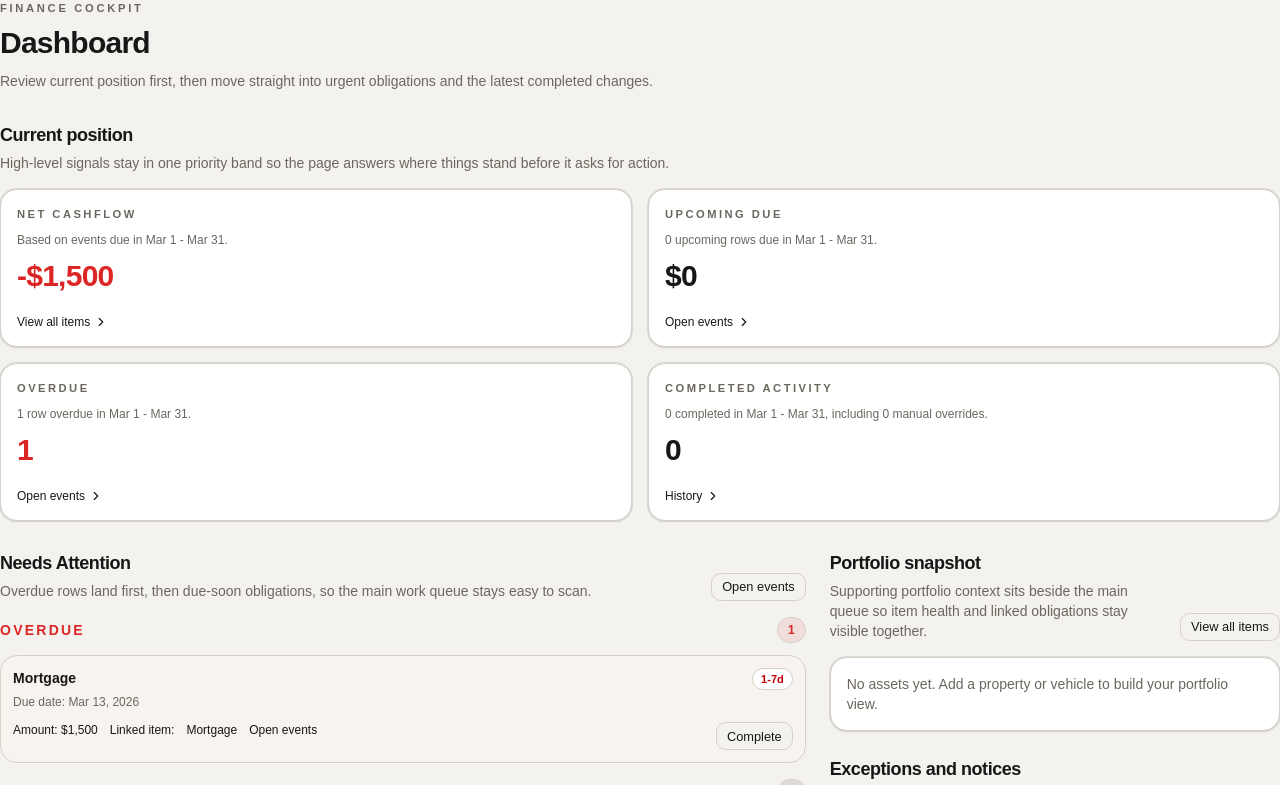
it: dashboard action queue › lets users complete dashboard queue events inline without leaving the dashboard
Click the button "Complete".
click(754, 736)  # box [716,722,793,750]
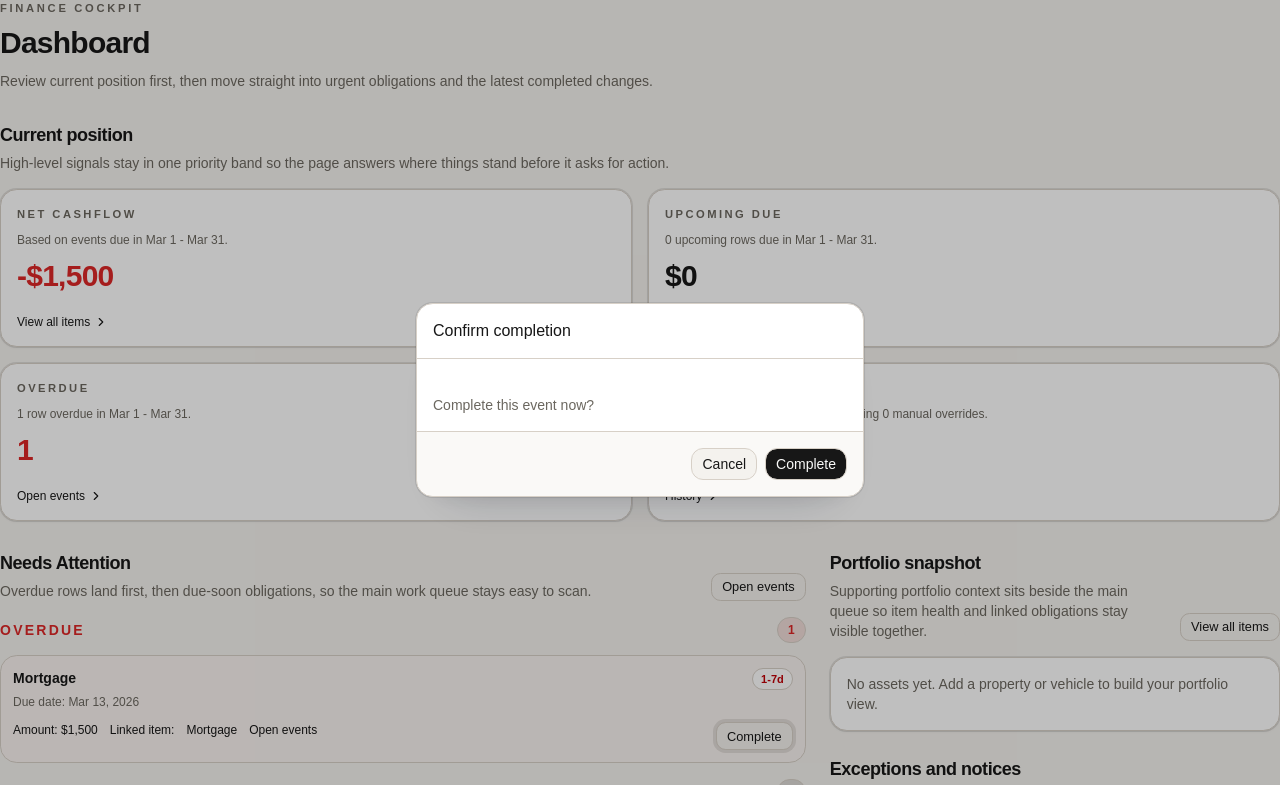
Click the button "Complete".
click(806, 464)  # box [765,448,847,480]
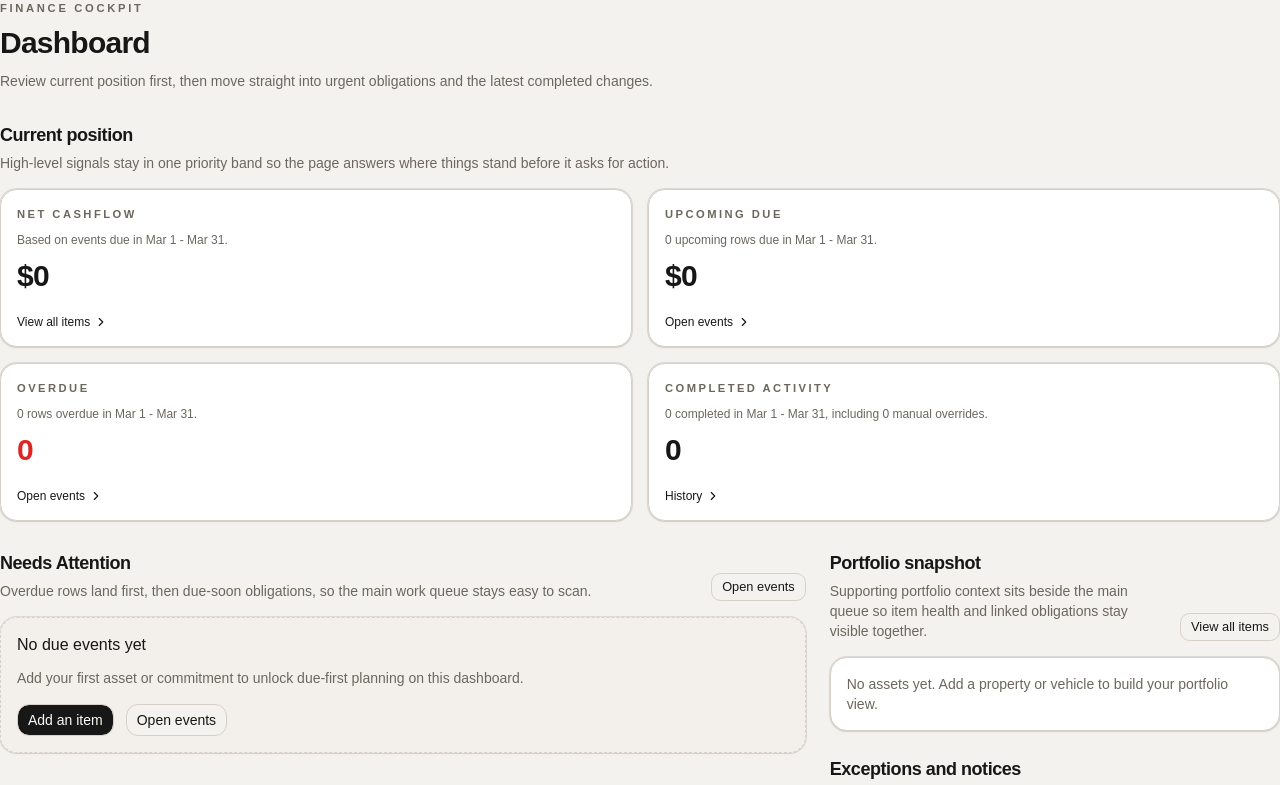
Result: the text "No due events yet" is shown at [17,636,146,653]
Result: the list item with test id "dashboard-action-queue-row" is gone
